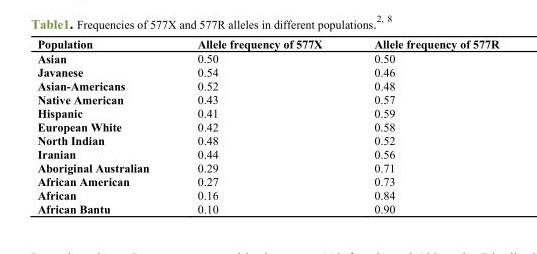table: (36, 36, 498, 215)
table column: (172, 36, 347, 215), (347, 36, 498, 215), (36, 36, 172, 215)
table column header: (36, 36, 498, 50)
table row: (36, 36, 498, 50), (36, 50, 498, 64), (36, 64, 498, 78), (36, 78, 498, 92), (36, 105, 498, 119), (36, 119, 498, 133), (36, 146, 498, 160), (36, 160, 498, 174), (36, 187, 498, 201), (36, 201, 498, 215), (36, 92, 498, 105), (36, 133, 498, 146), (36, 174, 498, 187)
